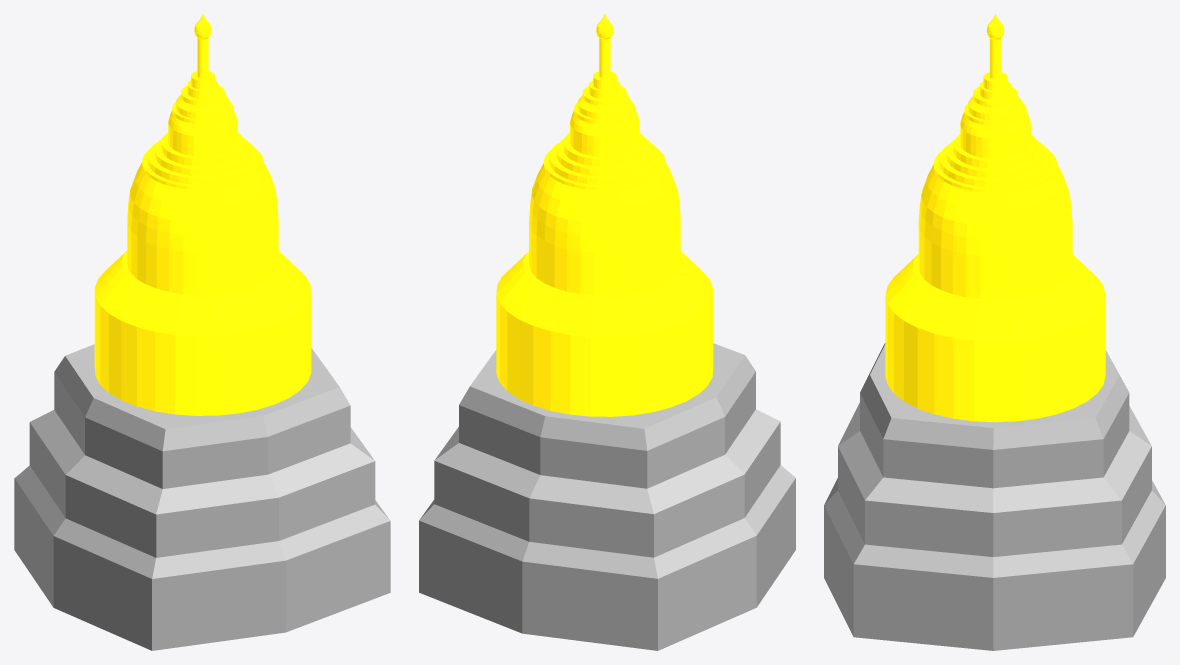
The model's file is Temple.fbx.
3 renders of one model, left to right at view 1: azimuth 30°, elevation 25°; view 2: azimuth 150°, elevation 25°; view 3: azimuth 270°, elevation 25°, orthographic.
Visible parts, largest first — view 1: Cube.001, Cube; view 2: Cube.001, Cube; view 3: Cube.001, Cube.
Part boxes in pixels (x1,y1,x2,y2): Cube.001: (14, 344, 390, 650); Cube: (94, 14, 311, 415); Cube.001: (419, 343, 795, 650); Cube: (496, 14, 713, 416); Cube.001: (824, 343, 1165, 650); Cube: (885, 14, 1105, 422).
Size of the model in its own units: 418 by 752 by 412.
